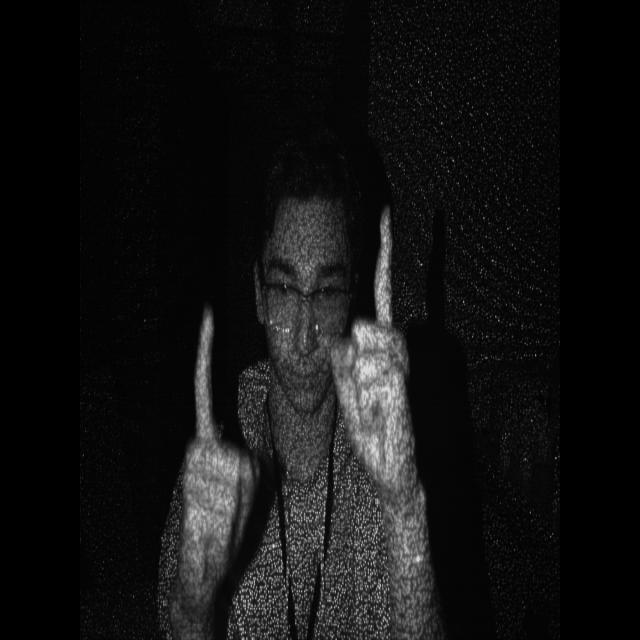STARS: (326, 191, 434, 516), (172, 290, 263, 594)
